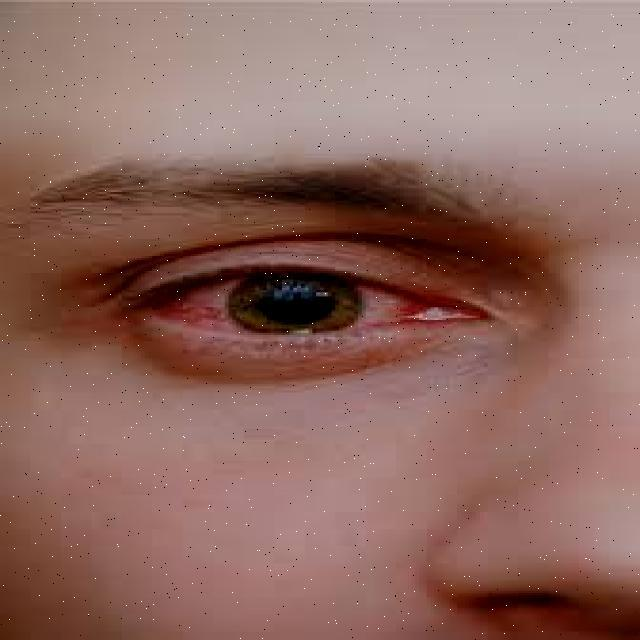Conjunctivitis: (142, 279, 482, 337)
